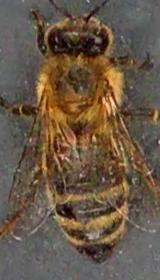varroa_mite: (46, 128, 72, 159)
